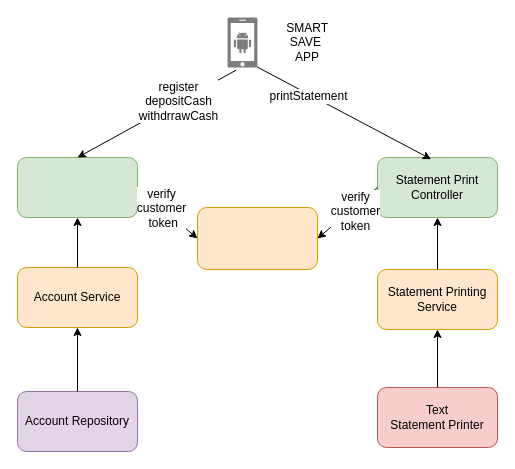
Image size: 515x469. Some labels were removed from this diagram. Each missing label, with the box of its shape:
Account Controller: (16, 156, 138, 218)
Identity Service {Mocked}: (196, 206, 318, 270)
